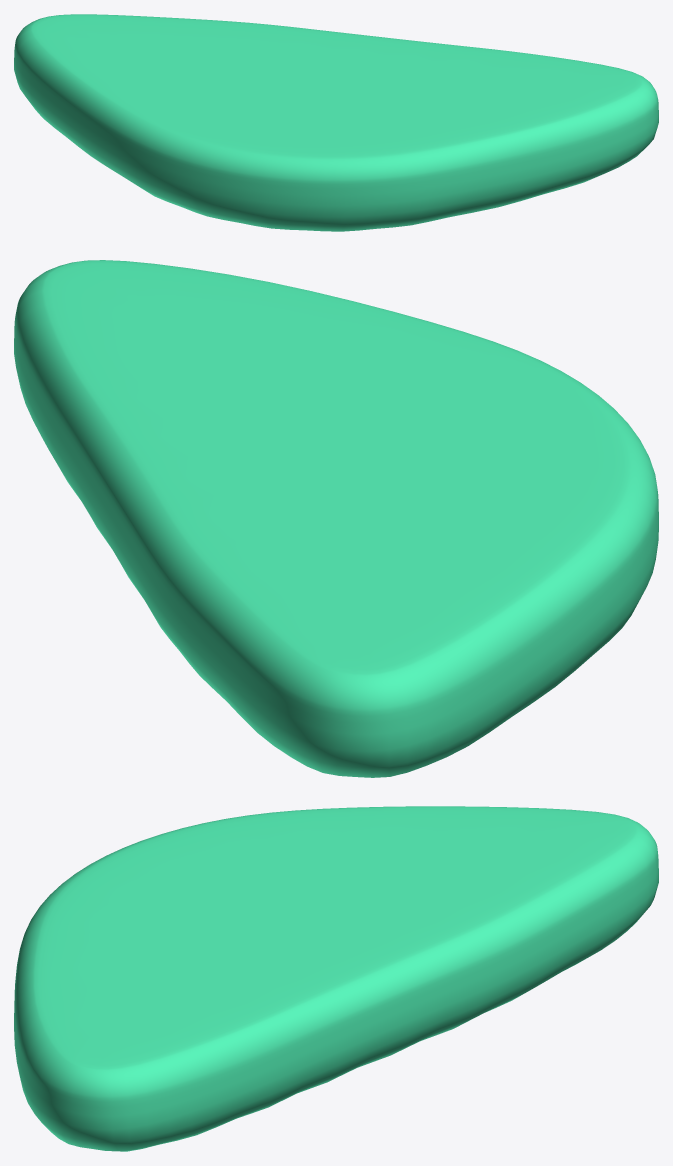
Rendered from lung_mint.fbx.
3 renders of one model, top to bottom at view 1: azimuth 30°, elevation 25°; view 2: azimuth 150°, elevation 25°; view 3: azimuth 270°, elevation 25°, orthographic. The views are drawn at different scales.
Parts seen in each view (by area): view 1: pCylinder1; view 2: pCylinder1; view 3: pCylinder1.
Part boxes in pixels (<box>): pCylinder1: <box>14,14,658,231</box>; pCylinder1: <box>14,260,658,777</box>; pCylinder1: <box>14,806,658,1151</box>.
Bounding box in the file's own units: 20.86 × 3.67 × 20.22.
1 material, 1 textured.
